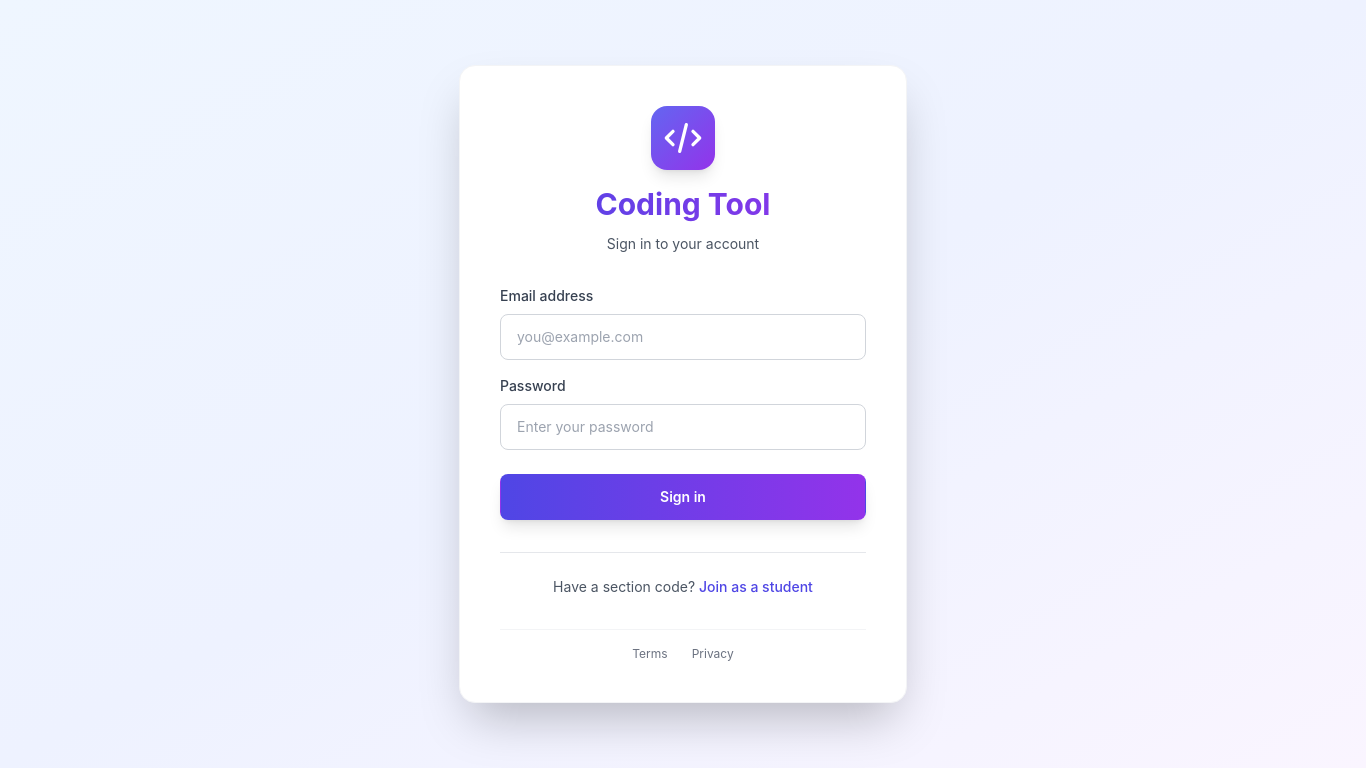
Test: SignInPage › Form Validation › shows error when password is empty
In the field labelled "Email address": (683, 337) [500,314,866,360], type "test@example.com"
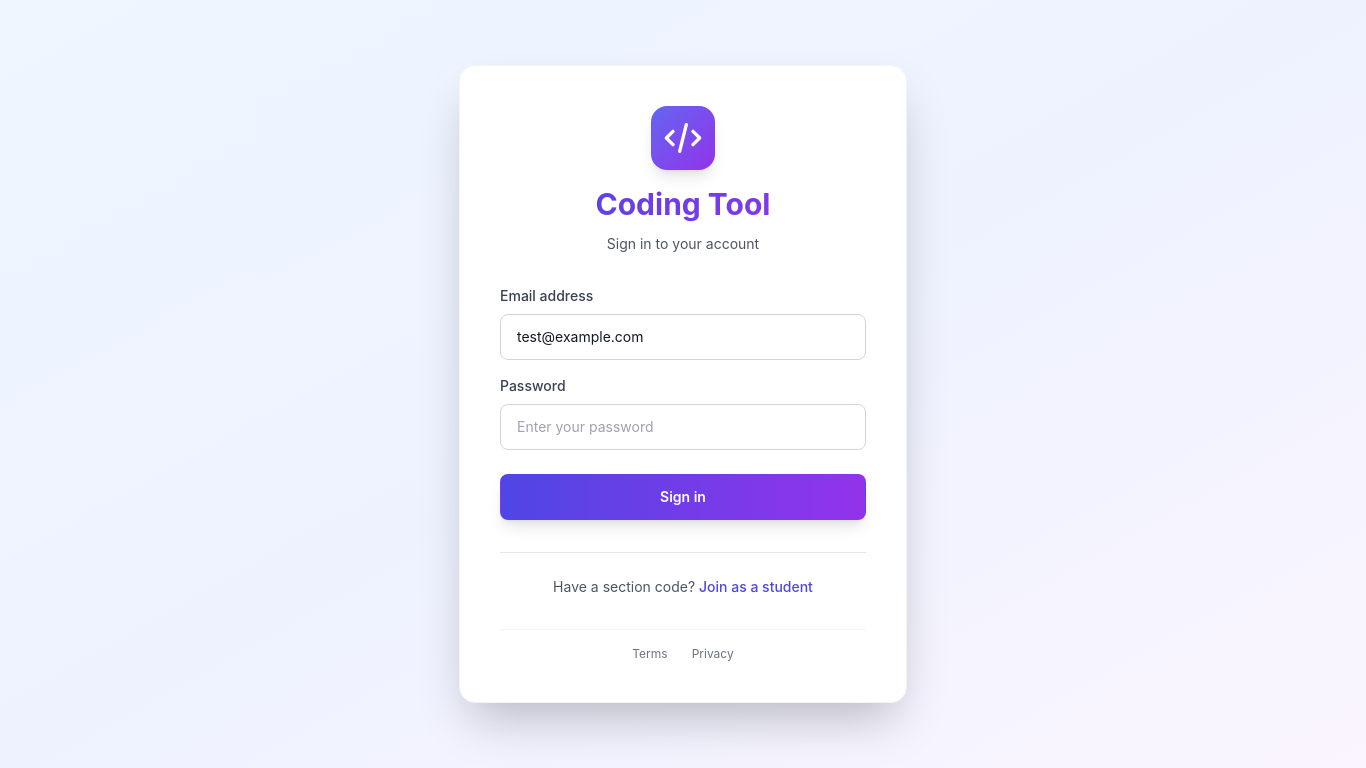
Click the button "Sign in": (683, 497) [500,474,866,520]
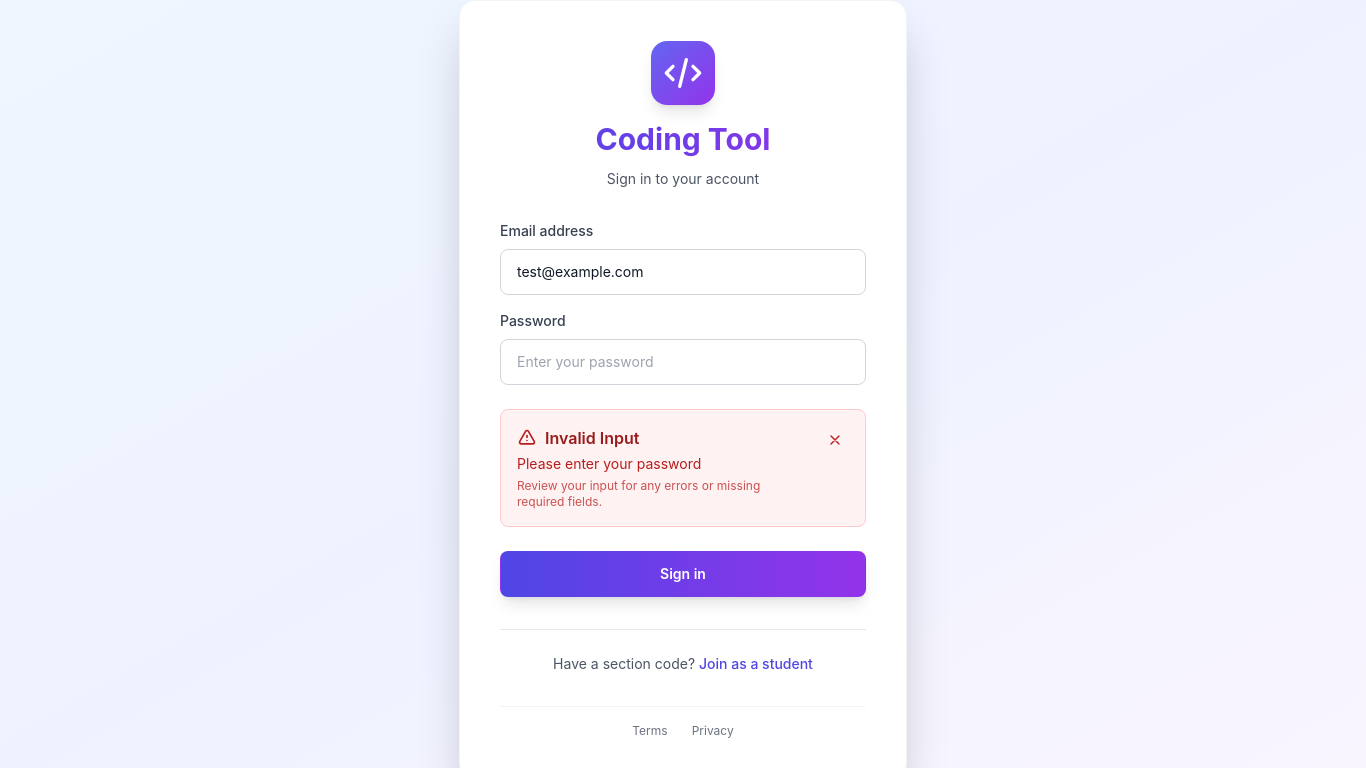
Now the message is shown, box [500,409,866,527]
Now the message shows "Please enter your password", box [517,455,701,472]
